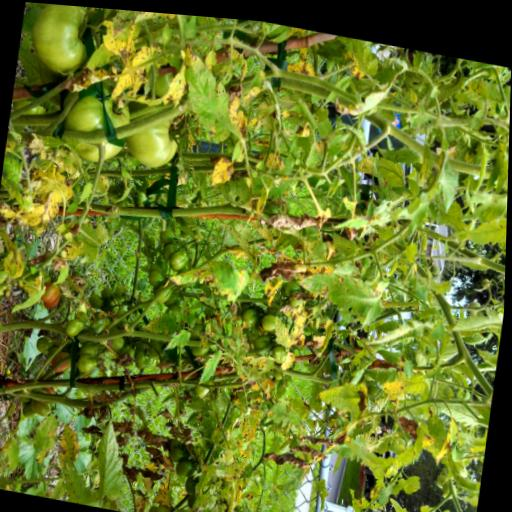Septoria: (175, 39, 258, 144), (291, 255, 380, 314), (203, 250, 255, 306), (329, 28, 382, 78), (315, 366, 374, 410), (0, 226, 31, 281), (145, 301, 187, 335), (201, 337, 226, 384), (374, 149, 409, 182), (362, 353, 403, 381), (132, 8, 179, 31), (397, 361, 430, 391), (240, 344, 278, 370), (210, 150, 237, 186), (165, 322, 195, 351), (273, 308, 297, 343), (180, 288, 202, 325), (331, 224, 360, 252), (249, 214, 278, 241), (377, 339, 405, 357), (306, 133, 321, 163)
